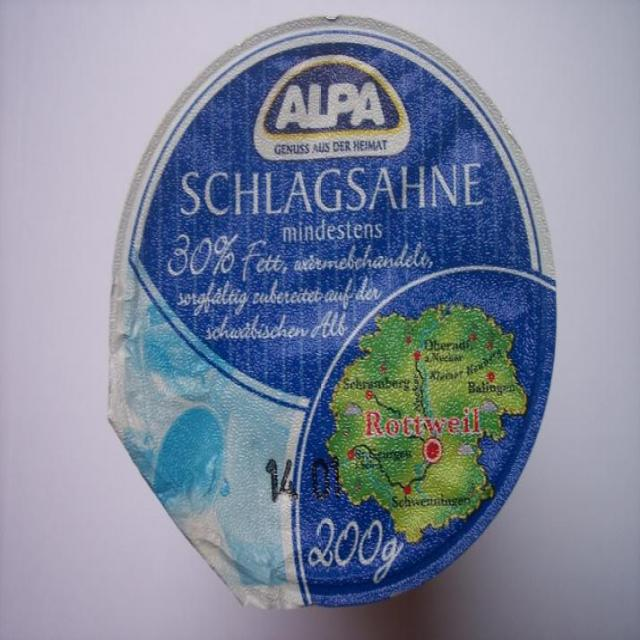Cream: (109, 18, 555, 608)
